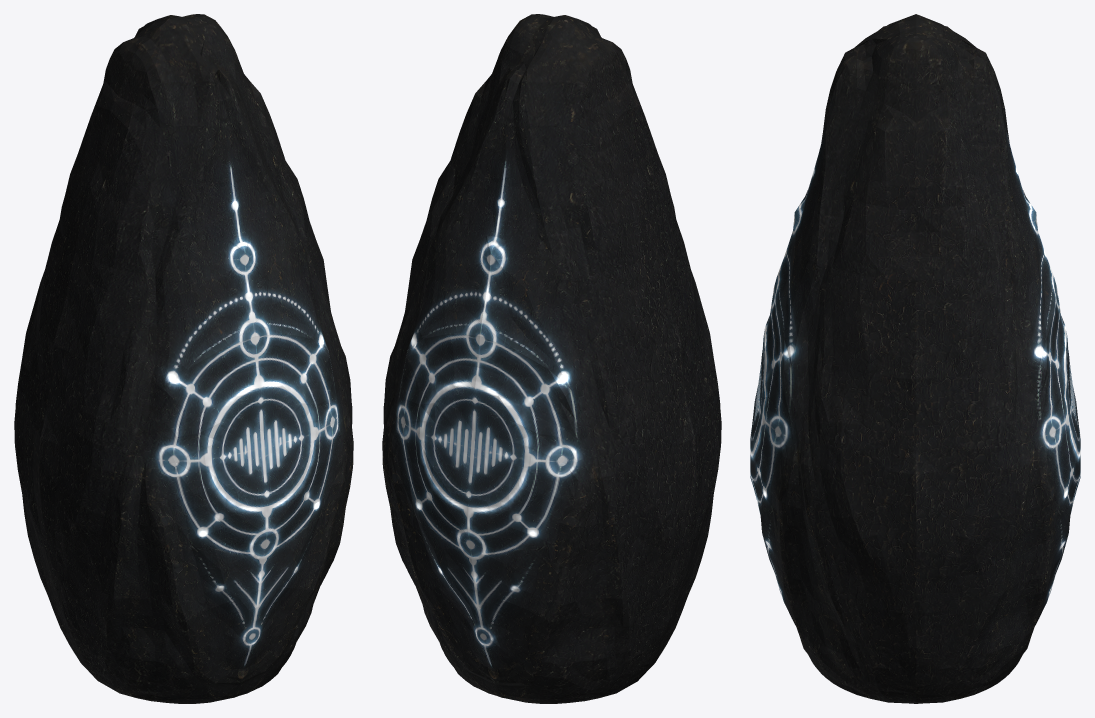
The model's file is glyph_4.glb.
The picture shows the model from 3 angles, left to right: view 1: azimuth 30°, elevation 25°; view 2: azimuth 150°, elevation 25°; view 3: azimuth 270°, elevation 25°; orthographic projection.
Size of the model in its own units: 0.8728 by 1.91 by 0.8728.
1 material, 1 textured.
